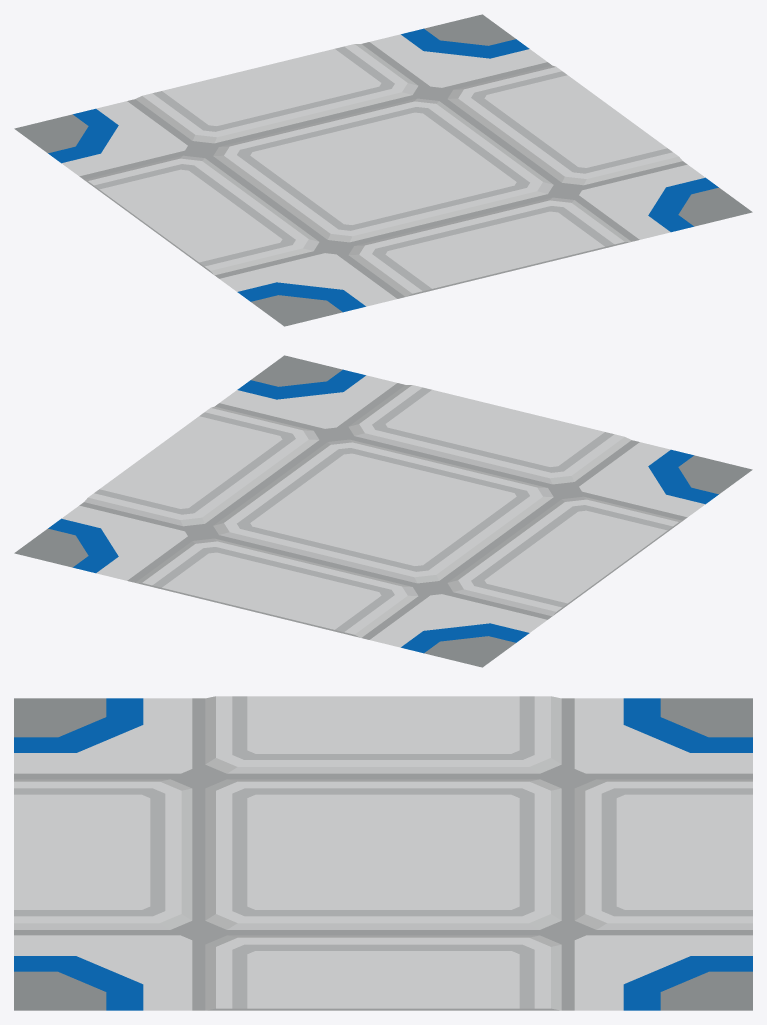
The model's file is Floor_type_A_023.fbx.
3 views of the same model, one above another, from view 1: azimuth 30°, elevation 25°; view 2: azimuth 150°, elevation 25°; view 3: azimuth 270°, elevation 25° (orthographic). The views are drawn at different scales.
Parts seen in each view (by area): view 1: Floor_type_A_023; view 2: Floor_type_A_023; view 3: Floor_type_A_023.
Part boxes in pixels (left/top/right/bottom): Floor_type_A_023: left=14, top=14, right=752, bottom=326; Floor_type_A_023: left=14, top=355, right=752, bottom=667; Floor_type_A_023: left=14, top=696, right=752, bottom=1010.
Size of the model in its own units: 400 by 400 by 1.34.
